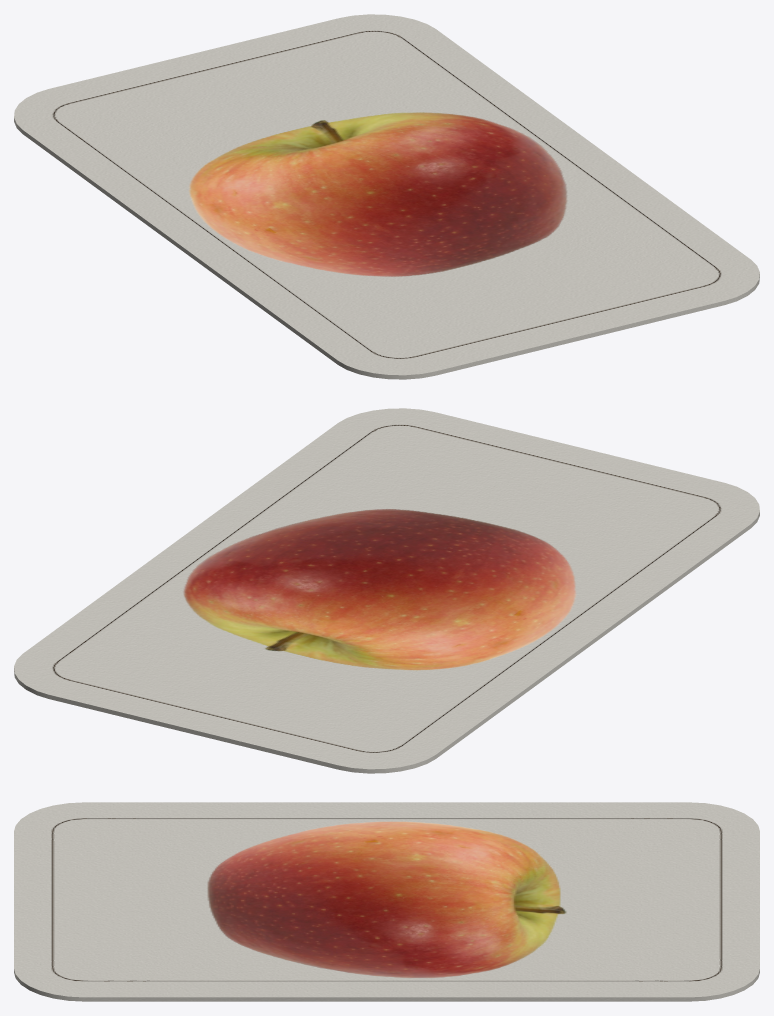
Rendered from card.FBX.
3 renders of one model, top to bottom at view 1: azimuth 30°, elevation 25°; view 2: azimuth 150°, elevation 25°; view 3: azimuth 270°, elevation 25°, orthographic. The views are drawn at different scales.
Parts seen in each view (by area): view 1: Rectangle003; view 2: Rectangle003; view 3: Rectangle003.
Part boxes in pixels (box(x1,y1,x2,y2)): Rectangle003: box(14, 14, 759, 379); Rectangle003: box(14, 408, 759, 773); Rectangle003: box(14, 802, 759, 1001).
Bounding box in the file's own units: 10 × 0.1 × 16.18.
